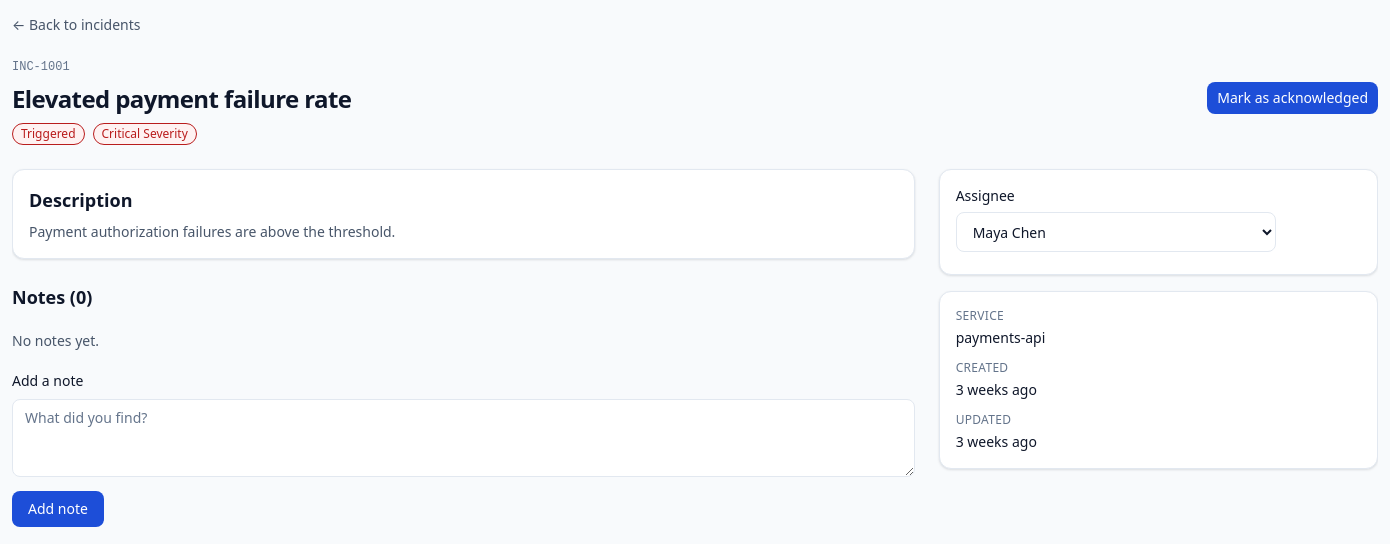
Test: IncidentDetailPage status updates › applies a status change and confirms it
This screenshot has width=1390, height=544.
Click the button "Mark as acknowledged".
click(1293, 98)  # box [1207, 82, 1378, 114]
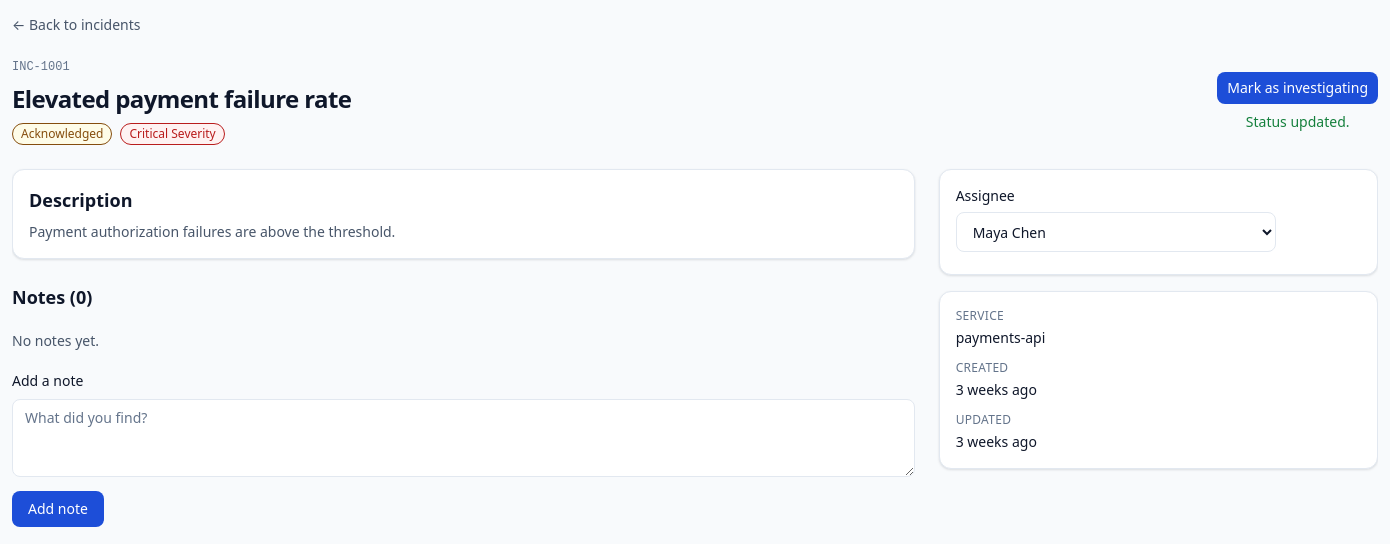
Expected: the button "Mark as investigating" is shown, [1217, 72, 1378, 104]
Expected: the text "Status updated." is shown, [1246, 112, 1350, 131]
